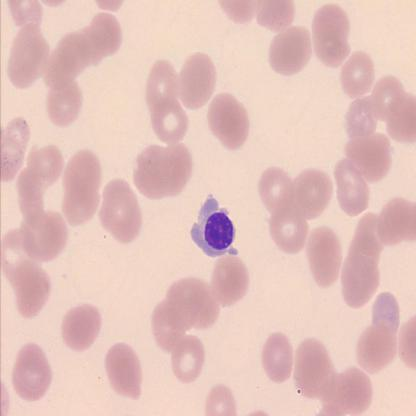NRC: (188, 193, 238, 261)
